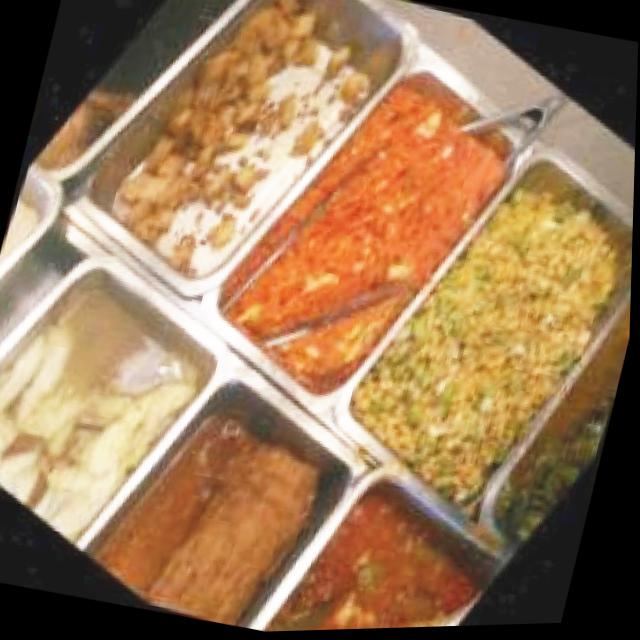Fried Rice: (393, 303, 530, 475), (480, 199, 595, 371)
carrot_eggs: (333, 123, 479, 271), (291, 235, 371, 302), (394, 94, 448, 143), (253, 287, 319, 321)
curry: (314, 516, 440, 630)
